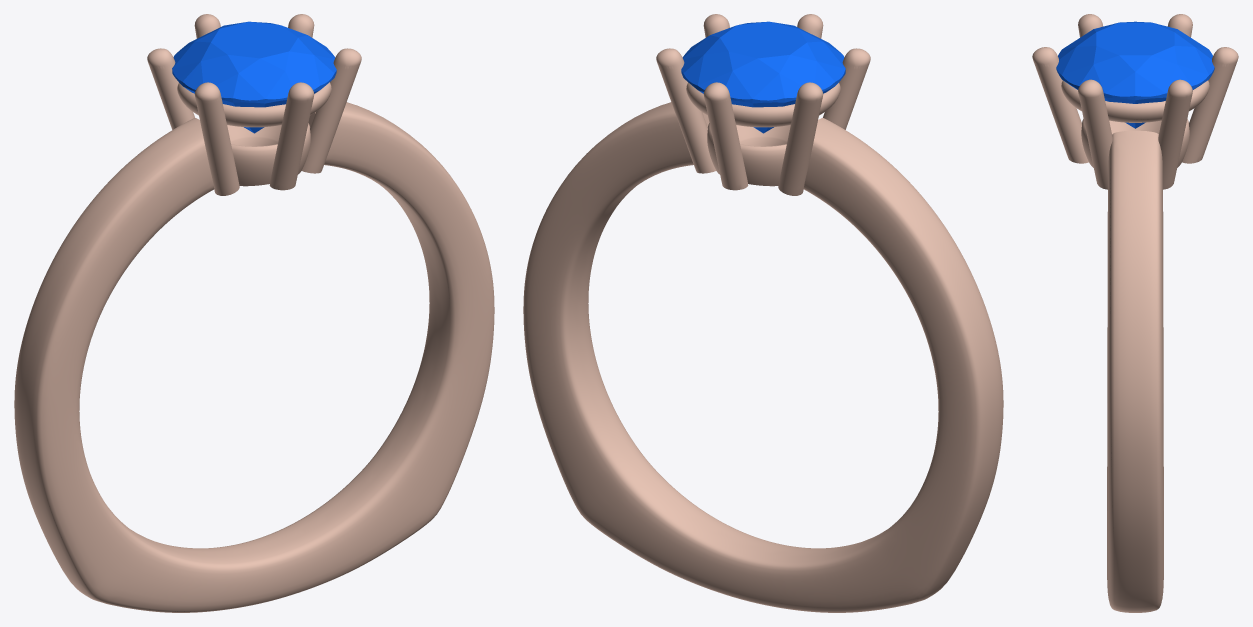
The model's file is bluesapphire-round-rosegold-6prong-europeanshank-nosidestones.glb.
3 views of the same model, side by side, from view 1: azimuth 30°, elevation 25°; view 2: azimuth 150°, elevation 25°; view 3: azimuth 270°, elevation 25° (orthographic). The views are drawn at different scales.
Parts seen in each view (by area): view 1: Round European 6Prongs, Roundstone; view 2: Round European 6Prongs, Roundstone; view 3: Round European 6Prongs, Roundstone.
Part boxes in pixels (bbox=[...]): Round European 6Prongs: bbox=[14, 14, 494, 612]; Roundstone: bbox=[172, 21, 336, 133]; Round European 6Prongs: bbox=[523, 14, 1003, 612]; Roundstone: bbox=[681, 21, 845, 133]; Round European 6Prongs: bbox=[1032, 14, 1238, 612]; Roundstone: bbox=[1056, 21, 1214, 128].
Size of the model in its own units: 20.71 by 23.81 by 8.33.
